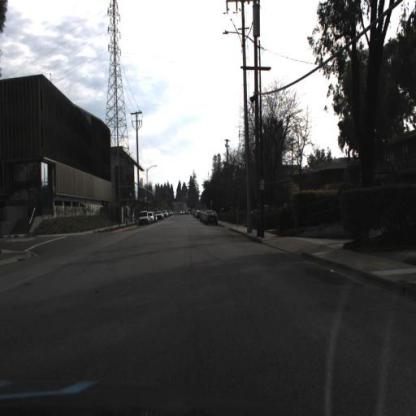car: (139, 209, 151, 229), (205, 211, 220, 227)
